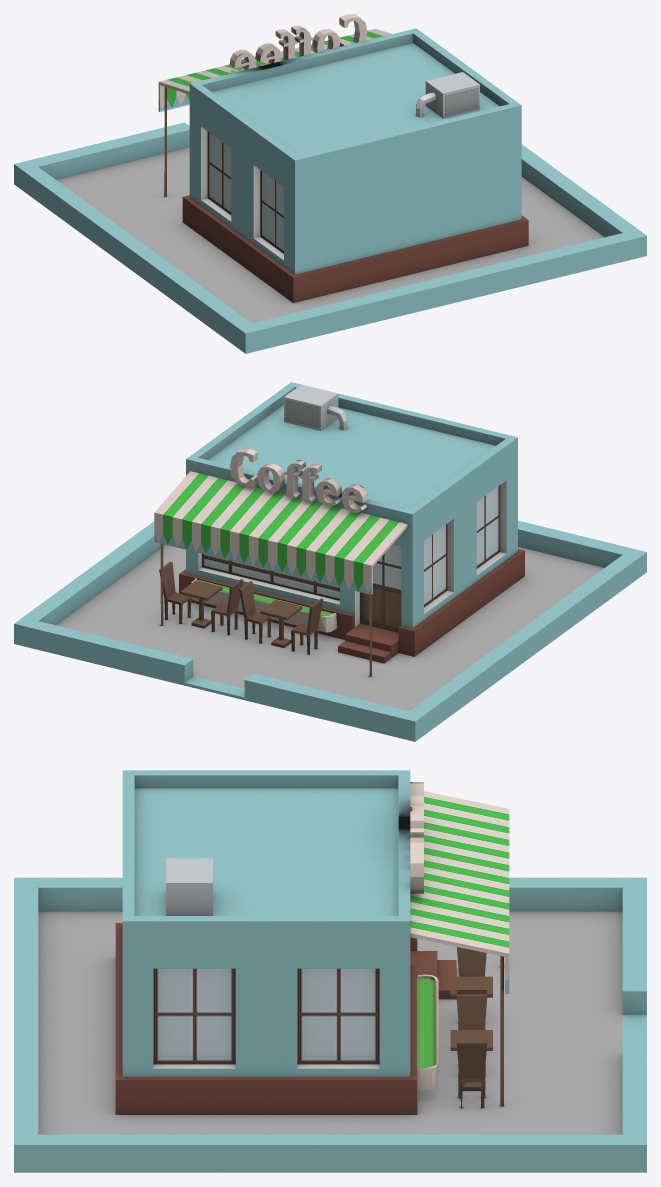
Rendered from HOS0610012.fbx.
The picture shows the model from 3 angles, top to bottom: view 1: azimuth 30°, elevation 25°; view 2: azimuth 150°, elevation 25°; view 3: azimuth 270°, elevation 25°; orthographic projection. The views are drawn at different scales.
Visible parts, largest first — view 1: smHOS0610012; view 2: smHOS0610012; view 3: smHOS0610012.
Boxes of the visible parts, bbox=[...] form: smHOS0610012: bbox=[14, 14, 646, 353]; smHOS0610012: bbox=[14, 382, 646, 741]; smHOS0610012: bbox=[14, 770, 646, 1172].
Size of what is drawn, in the model's own units: 1197 by 484 by 1197.
1 material, 1 textured.
